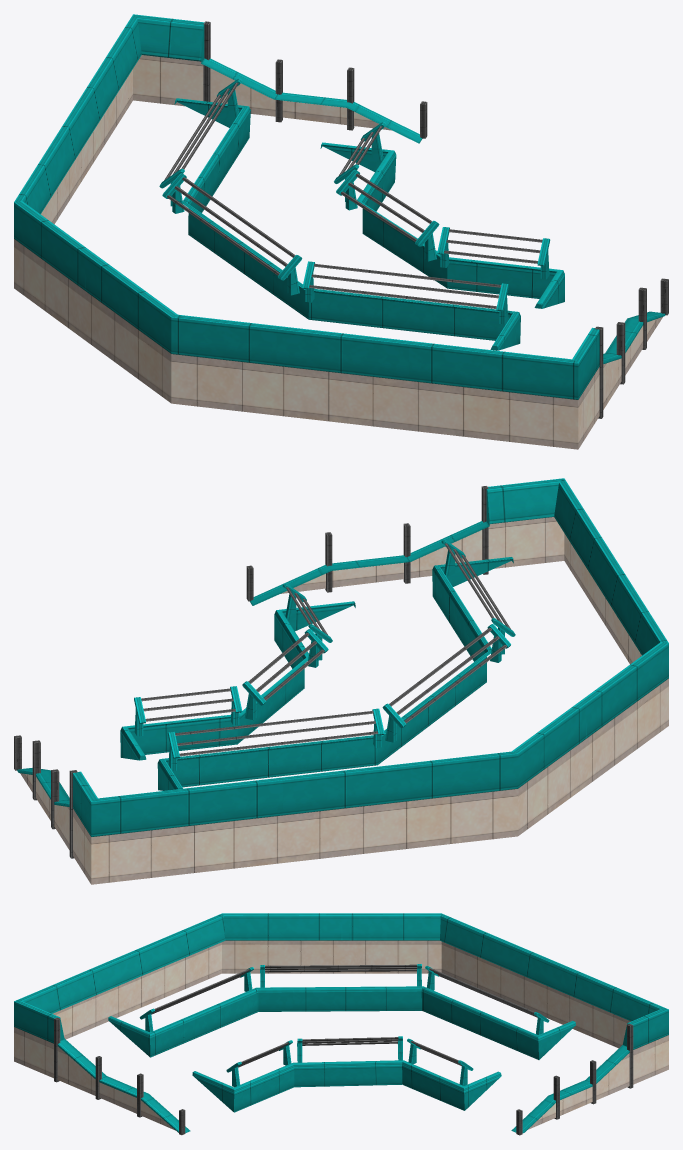
File: Viewstand_Structure.fbx
The picture shows the model from 3 angles, top to bottom: view 1: azimuth 30°, elevation 25°; view 2: azimuth 150°, elevation 25°; view 3: azimuth 270°, elevation 25°; orthographic projection. The views are drawn at different scales.
Visible parts, largest first — view 1: Viewstand_Structure; view 2: Viewstand_Structure; view 3: Viewstand_Structure.
Part boxes in pixels (bbox=[...]): Viewstand_Structure: bbox=[14, 14, 668, 449]; Viewstand_Structure: bbox=[14, 478, 668, 884]; Viewstand_Structure: bbox=[14, 913, 668, 1135].
Bounding box in the file's own units: 1421 × 264 × 2460.
